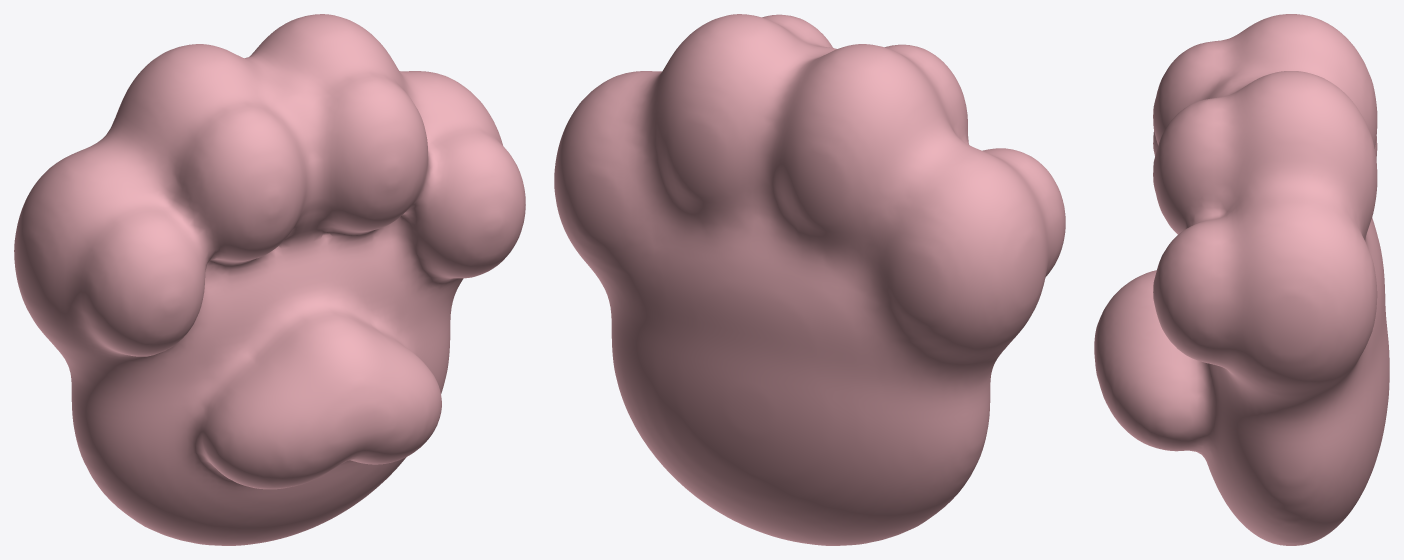
Rendered from squishy-paw.glb.
3 views of the same model, side by side, from view 1: azimuth 30°, elevation 25°; view 2: azimuth 150°, elevation 25°; view 3: azimuth 270°, elevation 25° (orthographic). The views are drawn at different scales.
Visible parts, largest first — view 1: Squishy_Surface; view 2: Squishy_Surface; view 3: Squishy_Surface.
Boxes of the visible parts, x1=… form: Squishy_Surface: x1=14, y1=14, x2=525, y2=545; Squishy_Surface: x1=554, y1=14, x2=1065, y2=545; Squishy_Surface: x1=1094, y1=14, x2=1389, y2=545.
Size of the model in its own units: 2.2 by 2.26 by 1.27.
